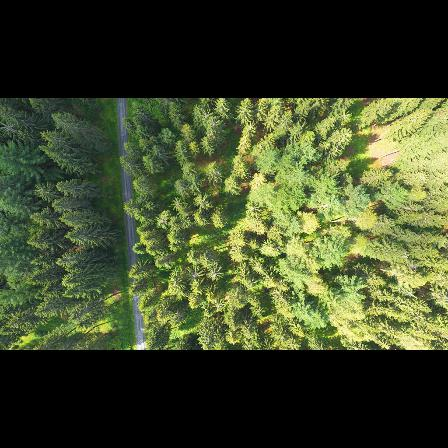Sick: (206, 116, 224, 132), (189, 266, 205, 283), (207, 263, 221, 282), (197, 106, 214, 121), (211, 297, 227, 311)
